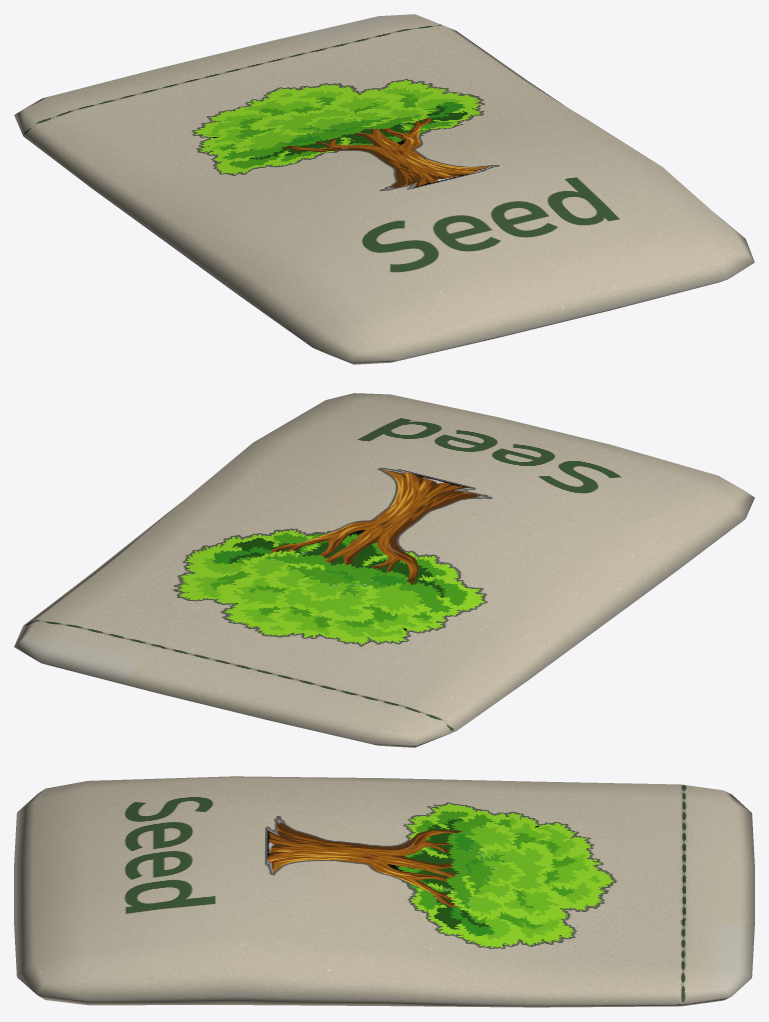
File: gardening_seed_pack_01.fbx
The picture shows the model from 3 angles, top to bottom: view 1: azimuth 30°, elevation 25°; view 2: azimuth 150°, elevation 25°; view 3: azimuth 270°, elevation 25°; orthographic projection. The views are drawn at different scales.
Visible parts, largest first — view 1: gardening seed pack 01; view 2: gardening seed pack 01; view 3: gardening seed pack 01.
Boxes of the visible parts, <box> form: gardening seed pack 01: <box>14,14,754,364</box>; gardening seed pack 01: <box>14,393,754,747</box>; gardening seed pack 01: <box>14,776,754,1007</box>.
Size of the model in its own units: 22.51 by 3.32 by 32.13.
